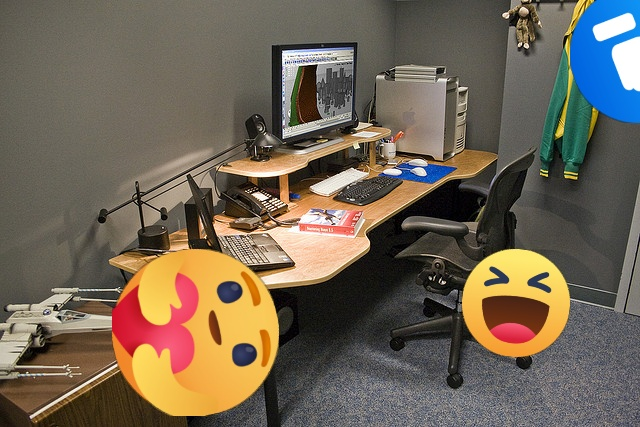care: (112, 249, 279, 416)
haha: (462, 249, 570, 357)
like: (570, 0, 640, 123)
